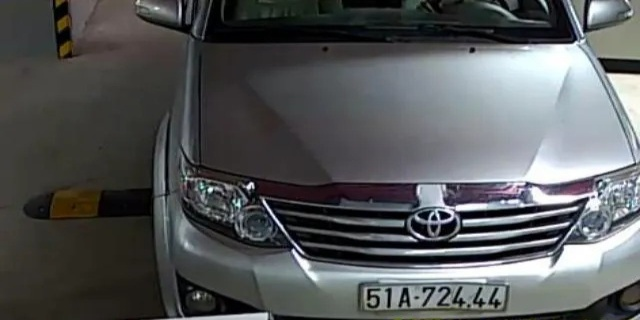bien_so: (361, 284, 508, 313)
